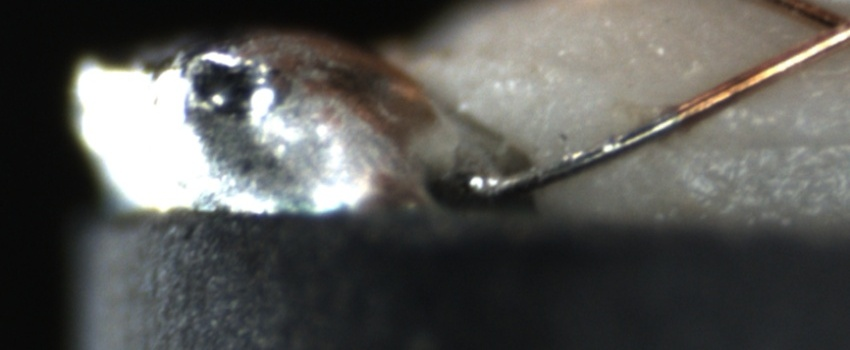CL: (793, 3, 850, 58)
DL: (707, 115, 850, 177)
TS: (479, 108, 682, 199)
TTCW: (471, 78, 726, 200)
